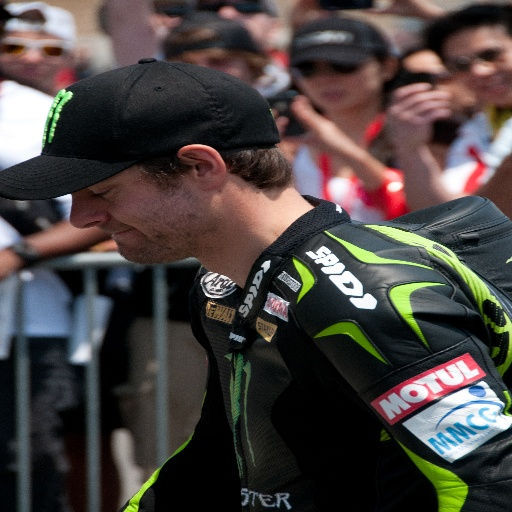hand: (284, 93, 363, 159), (387, 82, 452, 147), (270, 107, 299, 169), (288, 0, 339, 30), (361, 0, 438, 18)
